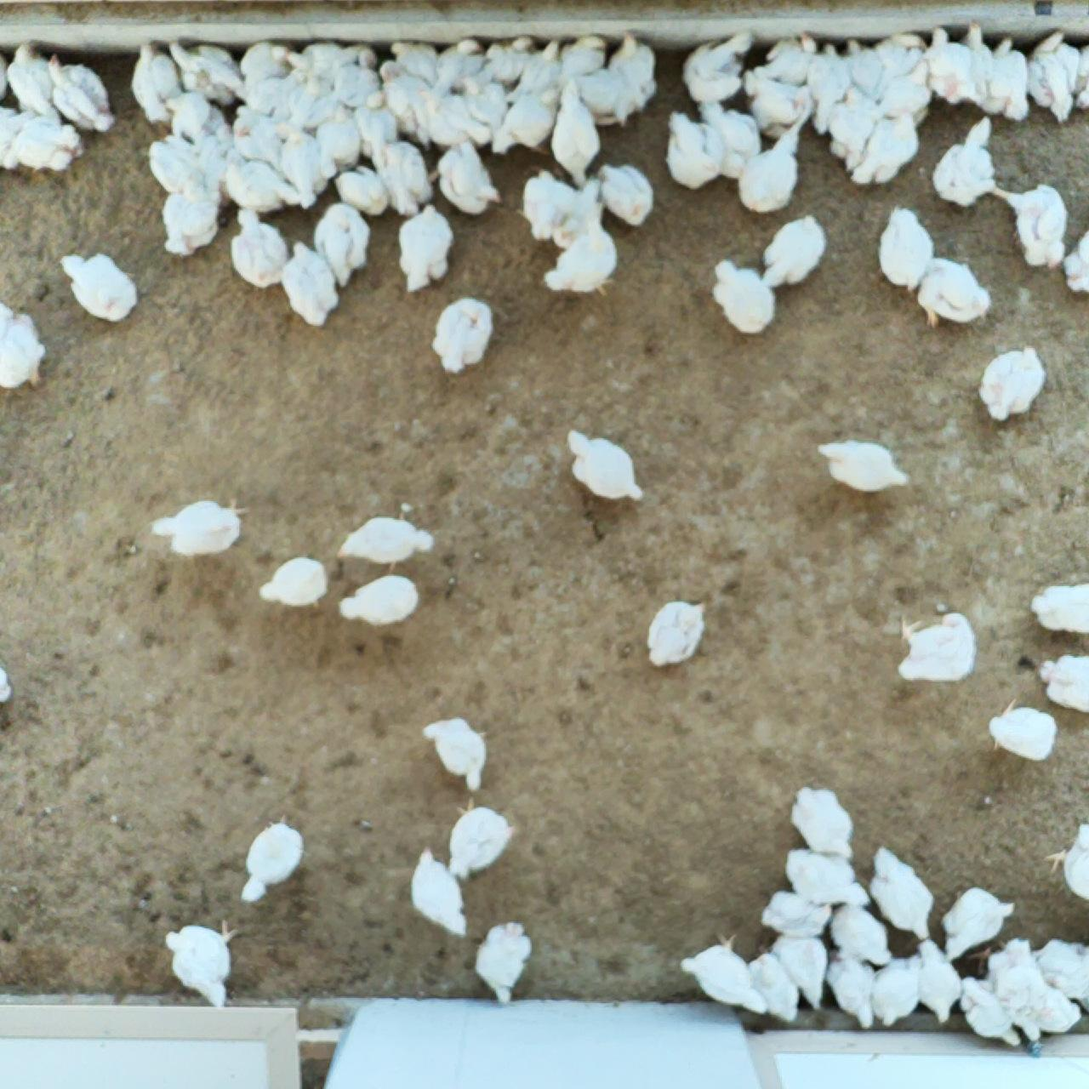chicken: (159, 920, 248, 1012), (736, 111, 809, 216), (677, 931, 768, 1015), (987, 176, 1067, 269), (147, 495, 257, 562), (448, 793, 522, 883), (541, 219, 622, 300), (235, 816, 307, 907), (60, 245, 140, 326), (894, 608, 976, 686), (42, 48, 116, 134), (564, 426, 644, 504), (848, 107, 925, 188), (226, 202, 295, 292), (868, 845, 933, 939), (917, 254, 995, 332), (550, 77, 606, 184), (428, 134, 498, 219), (158, 172, 227, 258), (941, 885, 1017, 963), (753, 214, 829, 291), (488, 83, 566, 158), (396, 200, 459, 292), (335, 516, 435, 573), (695, 95, 762, 180), (428, 296, 496, 379), (780, 846, 869, 909), (277, 240, 338, 331), (790, 784, 862, 861), (371, 134, 438, 216), (741, 64, 815, 138), (934, 115, 994, 206), (979, 345, 1048, 424), (733, 941, 799, 1023), (966, 936, 1044, 1005), (661, 108, 724, 192), (339, 570, 424, 632), (520, 171, 601, 236), (168, 39, 250, 103), (813, 438, 910, 492), (956, 974, 1024, 1051), (955, 20, 1010, 115), (411, 844, 466, 939), (1028, 28, 1082, 124), (480, 914, 535, 1008), (4, 40, 64, 125), (0, 294, 50, 396), (219, 148, 301, 210), (422, 714, 488, 791), (879, 204, 936, 292), (713, 257, 778, 334), (686, 27, 752, 102), (276, 115, 330, 206), (315, 199, 372, 285), (146, 134, 216, 204), (803, 38, 854, 134), (414, 83, 490, 146), (644, 600, 709, 671), (12, 108, 84, 171), (130, 38, 182, 125), (981, 36, 1031, 126), (256, 553, 331, 613), (823, 80, 875, 165), (828, 897, 892, 966), (924, 24, 977, 107), (827, 948, 880, 1031), (992, 701, 1058, 766), (1018, 973, 1083, 1039), (1043, 816, 1089, 909), (875, 61, 937, 129), (914, 941, 965, 1023), (771, 934, 826, 1010), (311, 63, 390, 115), (160, 91, 230, 147), (427, 36, 490, 98), (870, 953, 920, 1031), (233, 107, 290, 175), (315, 101, 368, 174), (281, 70, 335, 141), (1033, 938, 1089, 1006), (567, 71, 631, 130), (476, 37, 542, 94), (547, 33, 614, 89), (287, 40, 374, 83), (614, 29, 658, 114), (762, 28, 816, 96), (1028, 575, 1089, 635), (760, 888, 835, 936), (512, 40, 567, 105), (351, 86, 405, 152), (996, 969, 1044, 1043), (1033, 652, 1089, 713), (600, 161, 653, 225), (868, 28, 925, 86), (242, 40, 299, 97), (384, 57, 433, 123), (329, 159, 387, 212), (392, 37, 447, 91), (458, 73, 508, 132), (843, 33, 884, 102), (250, 76, 301, 127), (1058, 220, 1089, 294), (0, 94, 28, 174), (1068, 42, 1089, 116), (0, 654, 15, 712), (0, 47, 11, 105)
